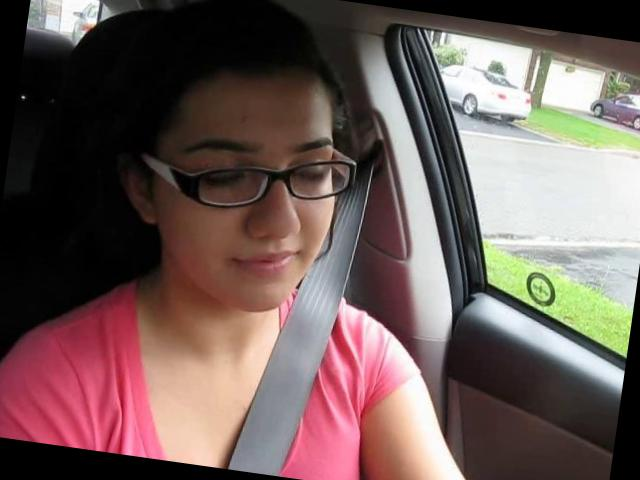eye_closed: (187, 164, 253, 198), (286, 162, 333, 194)
face: (144, 98, 352, 324)
